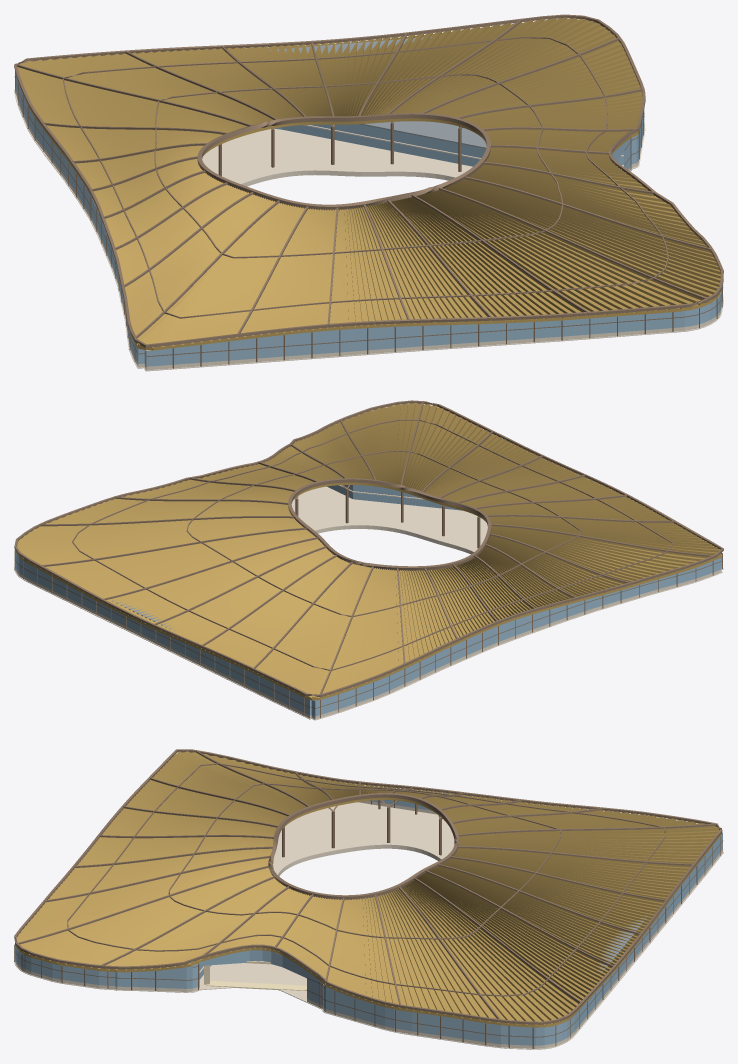
Rendered from detail.glb.
3 renders of one model, top to bottom at view 1: azimuth 30°, elevation 25°; view 2: azimuth 150°, elevation 25°; view 3: azimuth 270°, elevation 25°, orthographic. The views are drawn at different scales.
Parts seen in each view (by area): view 1: trim, metal, glass, stone, roof; view 2: trim, metal, glass, stone; view 3: trim, metal, stone, glass, entrance.
Part boxes in pixels (<box>): trim: <box>17,17,720,350</box>; metal: <box>14,14,723,369</box>; glass: <box>15,71,722,366</box>; stone: <box>14,87,723,371</box>; roof: <box>270,36,486,148</box>; trim: <box>15,402,720,700</box>; metal: <box>14,400,723,718</box>; glass: <box>14,485,722,716</box>; stone: <box>14,485,723,720</box>; trim: <box>15,751,721,1027</box>; metal: <box>14,749,723,1048</box>; stone: <box>14,801,723,1049</box>; glass: <box>14,800,722,1045</box>; entrance: <box>204,961,306,990</box>.
Size of the model in its own units: 165 by 15.3 by 177.
